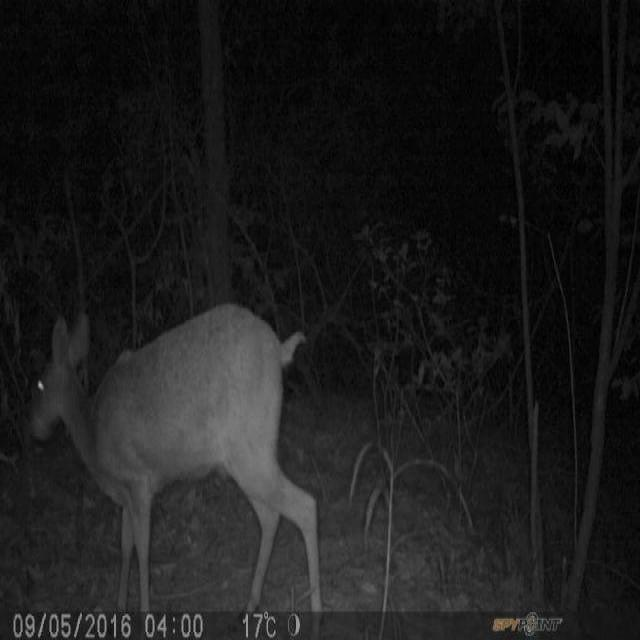deer: (27, 299, 324, 610)
